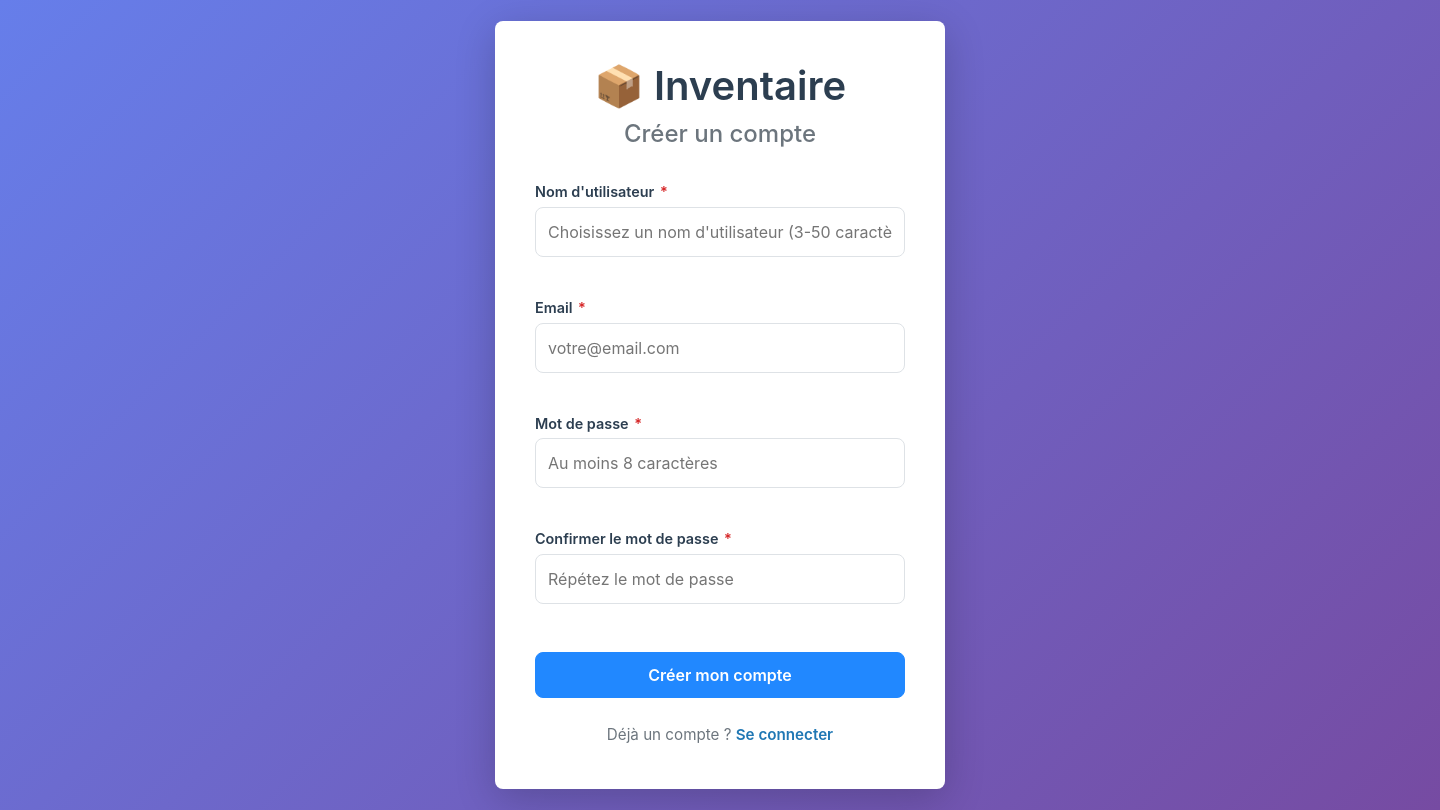
Test case: Register › affiche une erreur si le password est trop court
The width and height of the screenshot is (1440, 810).
Type "testuser" into the field labelled "Nom d'utilisateur *" at {"x": 720, "y": 232}, box [535,207,905,257]
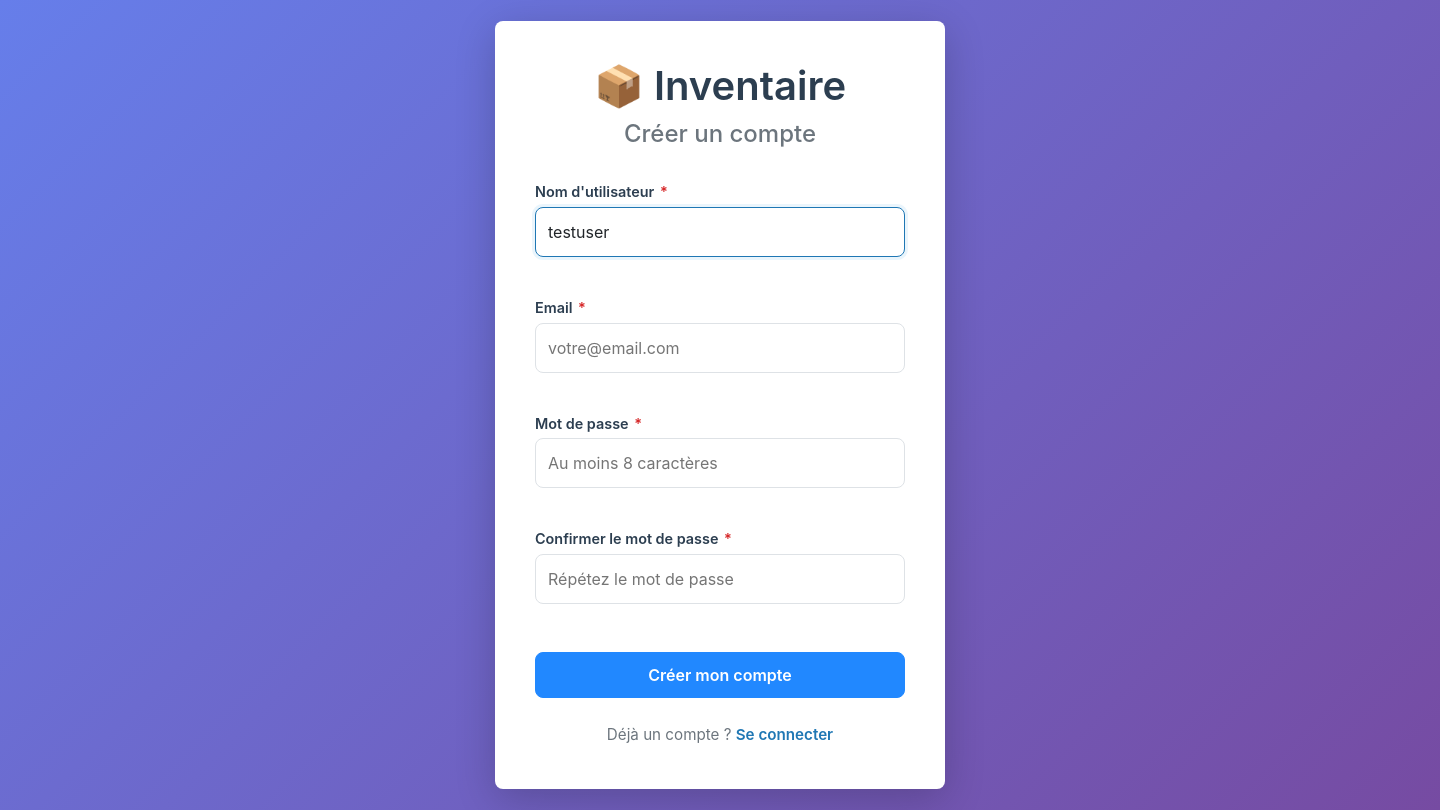
Type "test@example.com" into the field labelled "Email *" at {"x": 720, "y": 348}, box [535,323,905,373]
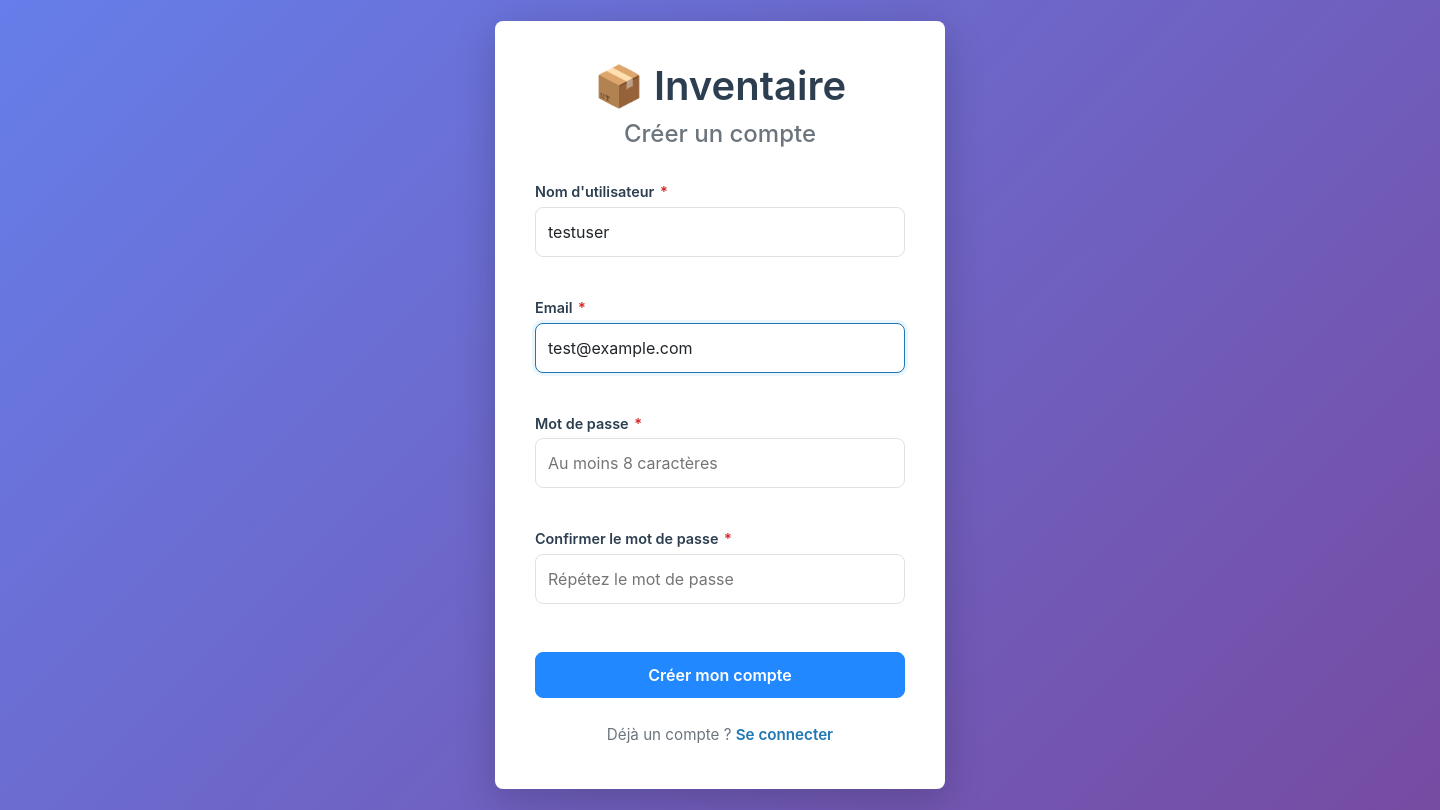
Type "1234567" into the password field labelled "Mot de passe *" at {"x": 720, "y": 463}, box [535,438,905,488]
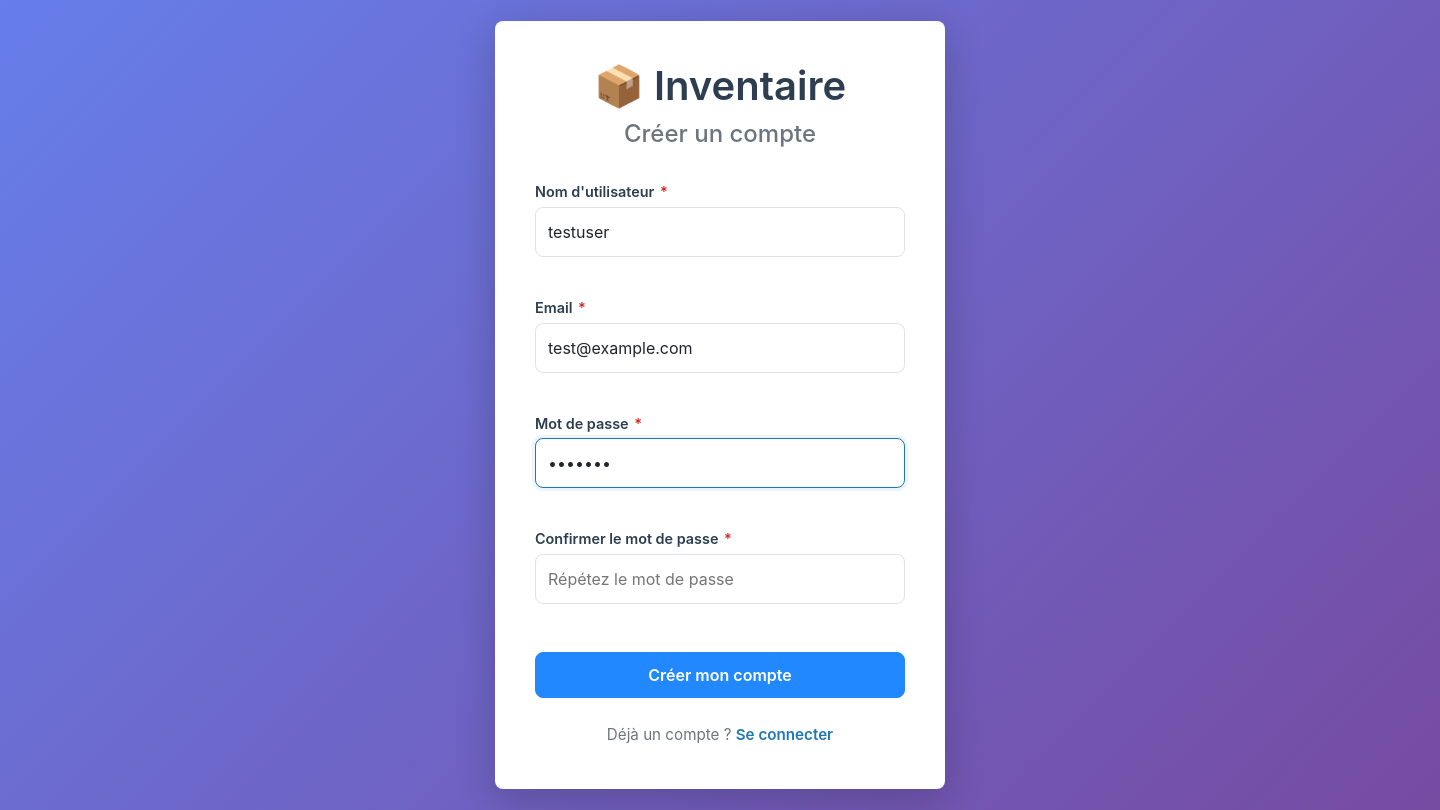
Type "1234567" into the password field labelled "Confirmer le mot de passe *" at {"x": 720, "y": 579}, box [535,554,905,604]
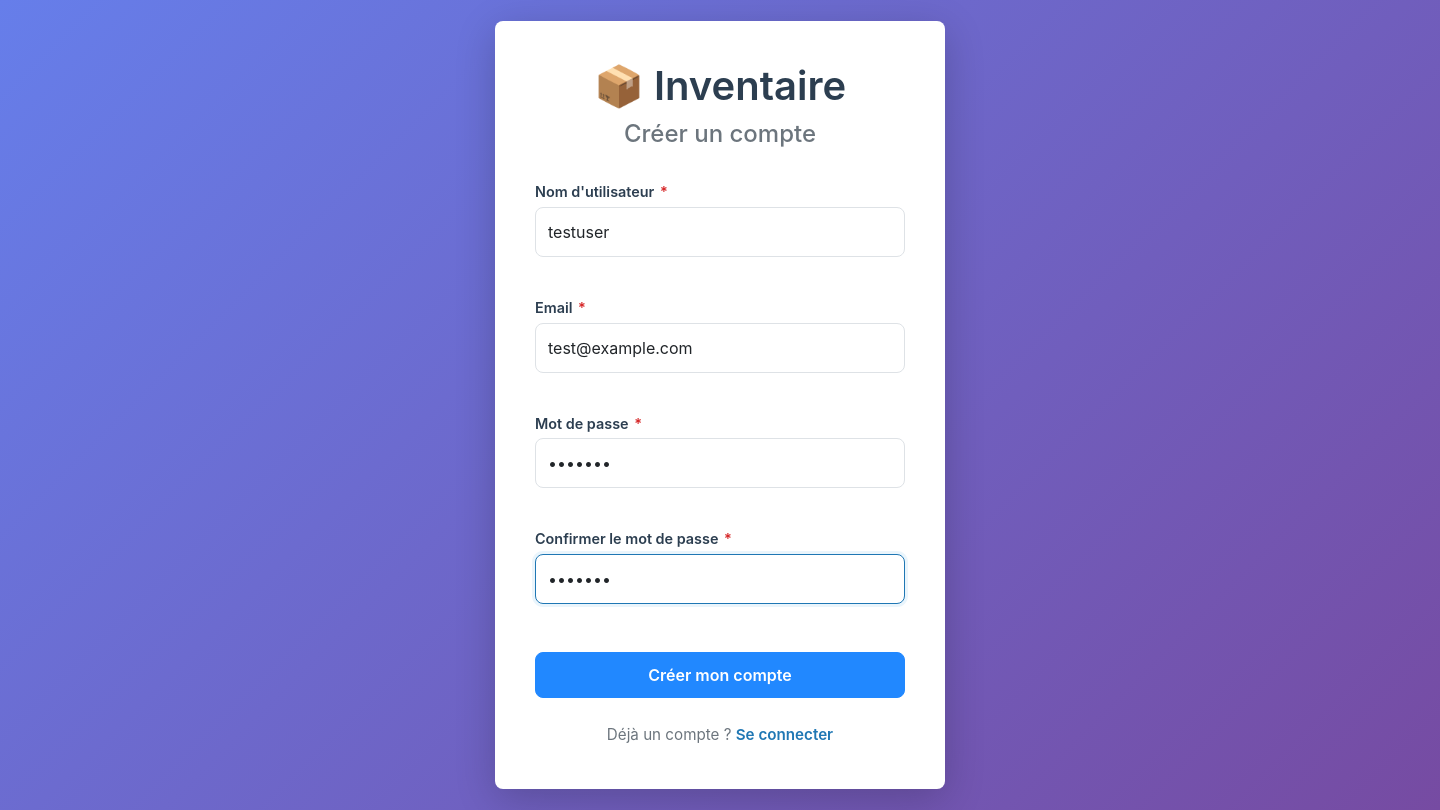
Click the button "Créer mon compte" at {"x": 720, "y": 675}, box [535,652,905,698]
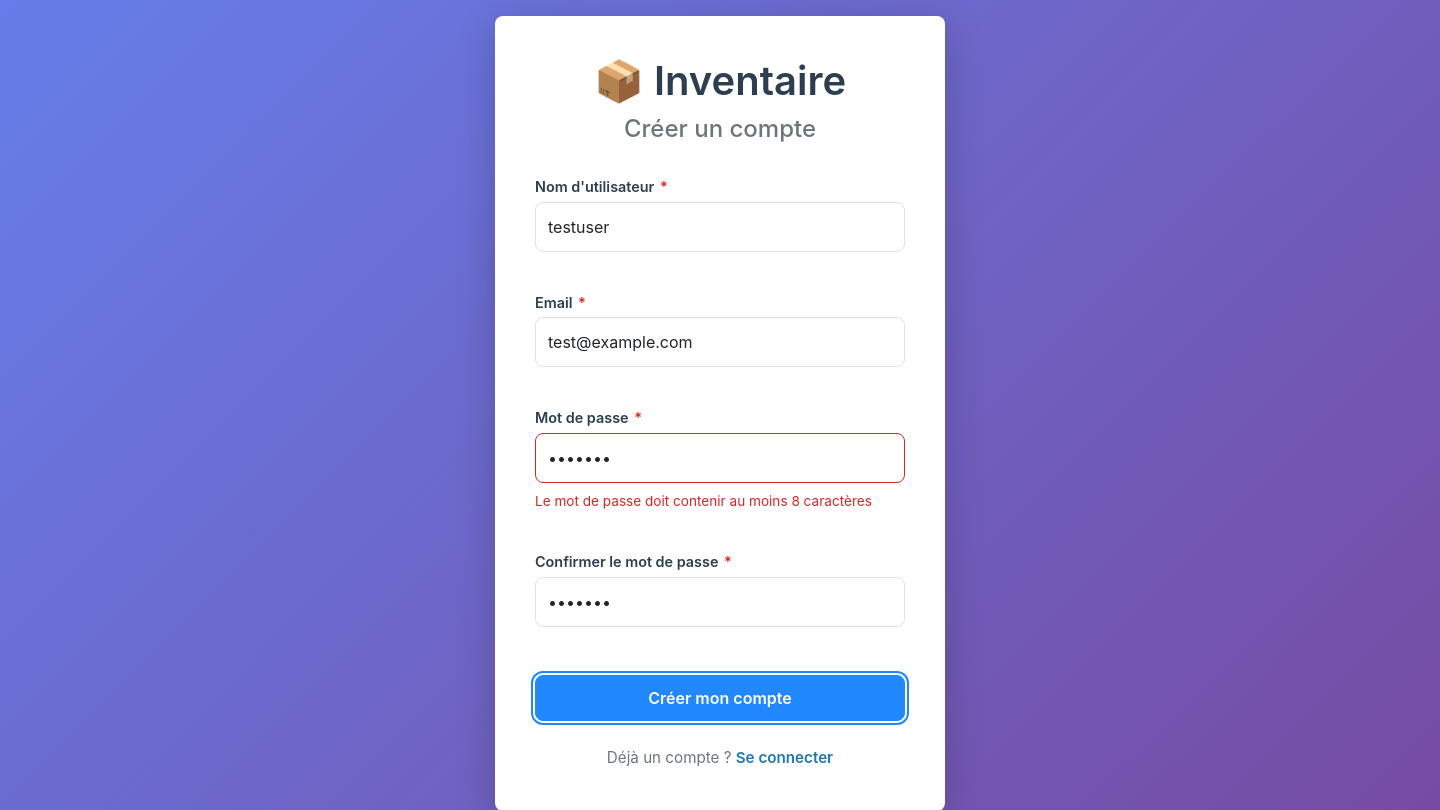
Expected: the text "Le mot de passe doit contenir au moins 8 caractères" is shown, [535,491,905,511]
